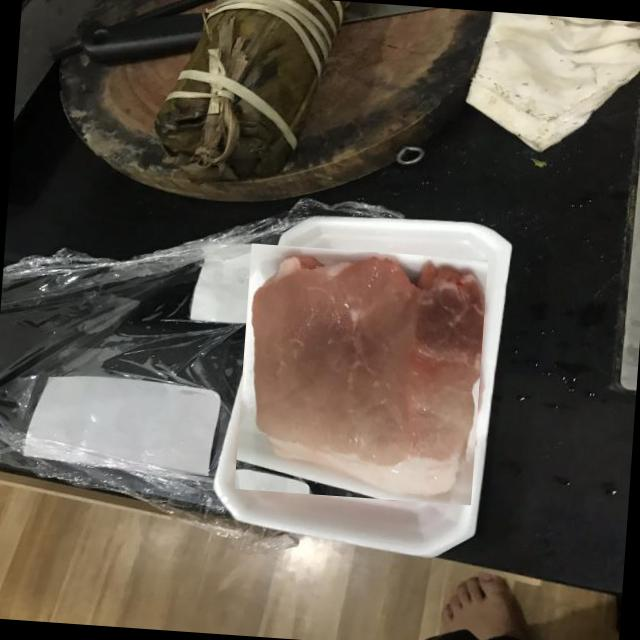chicken: (232, 245, 490, 503)
